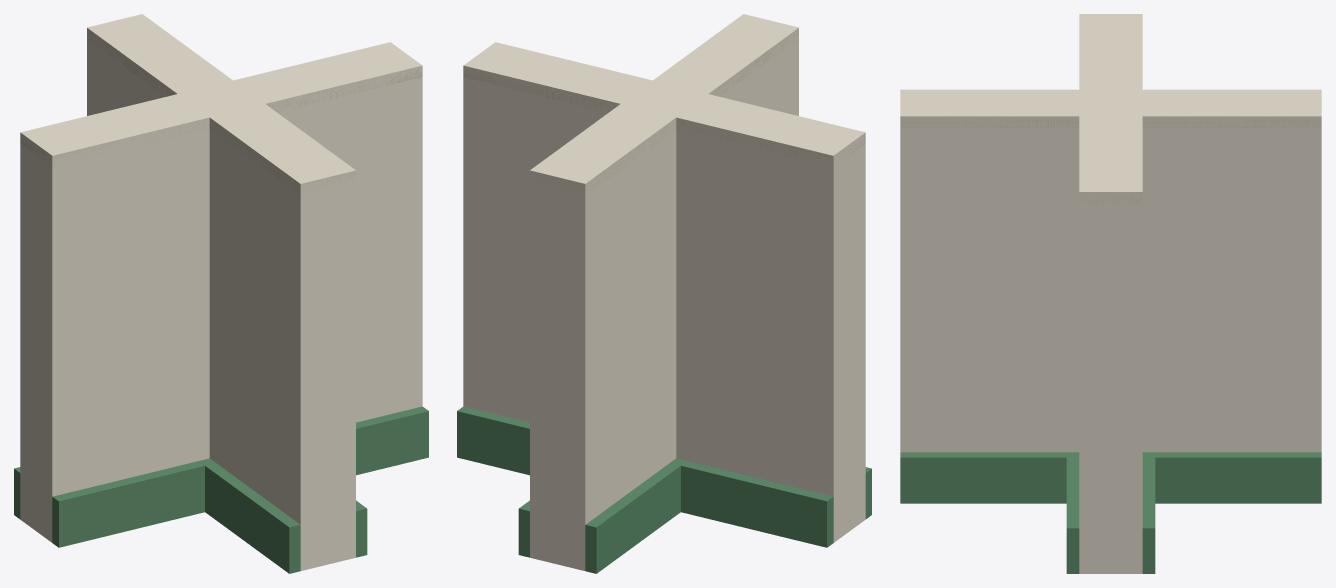
The model's file is partition-cross.glb.
3 renders of one model, left to right at view 1: azimuth 30°, elevation 25°; view 2: azimuth 150°, elevation 25°; view 3: azimuth 270°, elevation 25°, orthographic.
Parts seen in each view (by area): view 1: partition-cross; view 2: partition-cross; view 3: partition-cross.
Part boxes in pixels (box(x1,y1,x2,y2)): partition-cross: box(14, 14, 428, 573); partition-cross: box(457, 14, 871, 573); partition-cross: box(900, 14, 1321, 573).
Size of the model in its own units: 1 by 1 by 1.
1 material, 1 textured.
